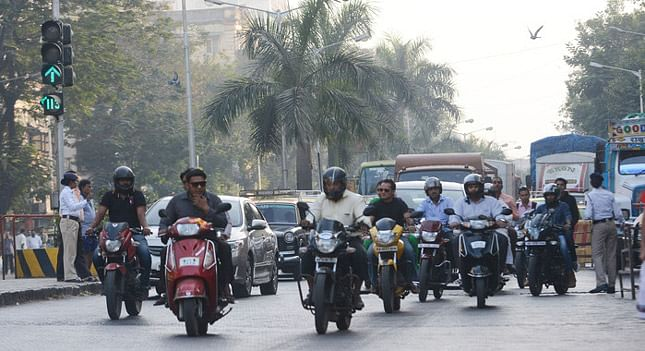bike: (162, 166, 234, 336), (301, 168, 362, 332), (93, 168, 146, 321), (456, 174, 504, 304), (409, 180, 455, 303), (369, 179, 405, 316), (525, 187, 570, 292)
car: (225, 190, 284, 295)
truck: (600, 119, 645, 220)
